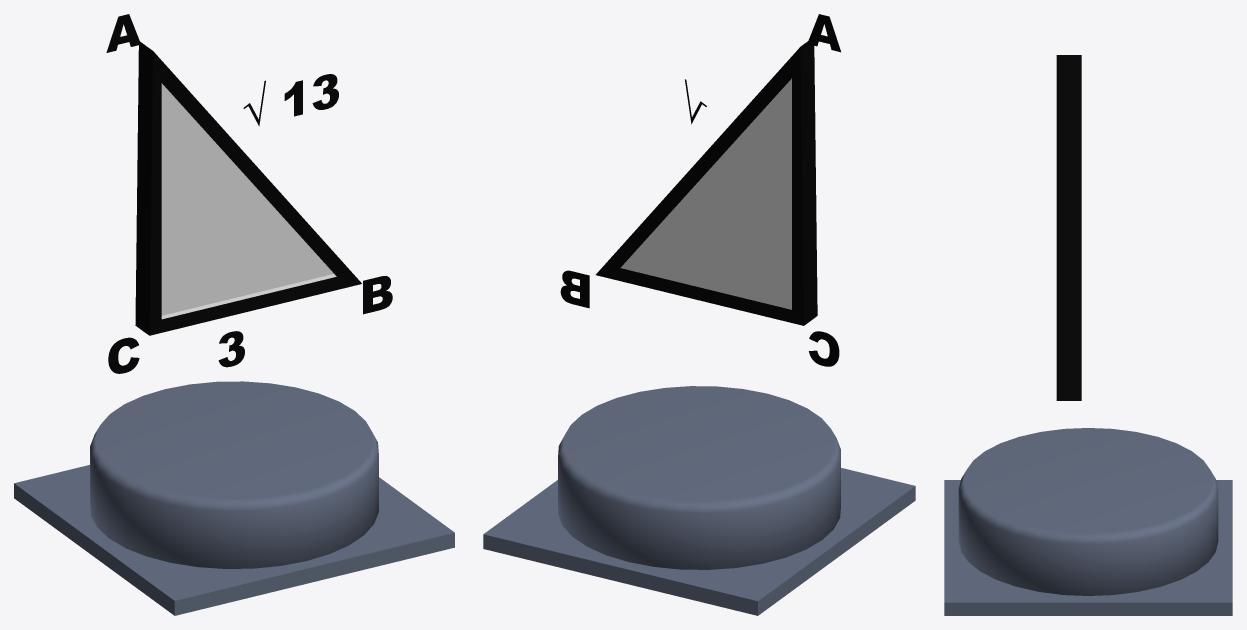
The picture shows the model from 3 angles, left to right: view 1: azimuth 30°, elevation 25°; view 2: azimuth 150°, elevation 25°; view 3: azimuth 270°, elevation 25°; orthographic projection. The views are drawn at different scales.
Visible parts, largest first — view 1: Cube, Cube.001, Text.004, Text.001, Text.003, Text.002; view 2: Cube, Cube.001, Text.001, Text.003, Text.002; view 3: Cube, Cube.001.
Part boxes in pixels (bbox=[...]): Cube: bbox=[14, 381, 454, 615]; Cube.001: bbox=[135, 41, 361, 335]; Text.004: bbox=[243, 74, 338, 126]; Text.001: bbox=[363, 276, 392, 314]; Text.003: bbox=[106, 14, 140, 52]; Text.002: bbox=[108, 337, 139, 373]; Cube: bbox=[483, 386, 915, 615]; Cube.001: bbox=[596, 41, 817, 325]; Text.001: bbox=[560, 270, 589, 308]; Text.003: bbox=[807, 14, 840, 52]; Text.002: bbox=[809, 331, 839, 366]; Cube: bbox=[944, 428, 1232, 615]; Cube.001: bbox=[1056, 55, 1081, 400].
Size of the model in its own units: 9.46 by 16.92 by 9.09.
